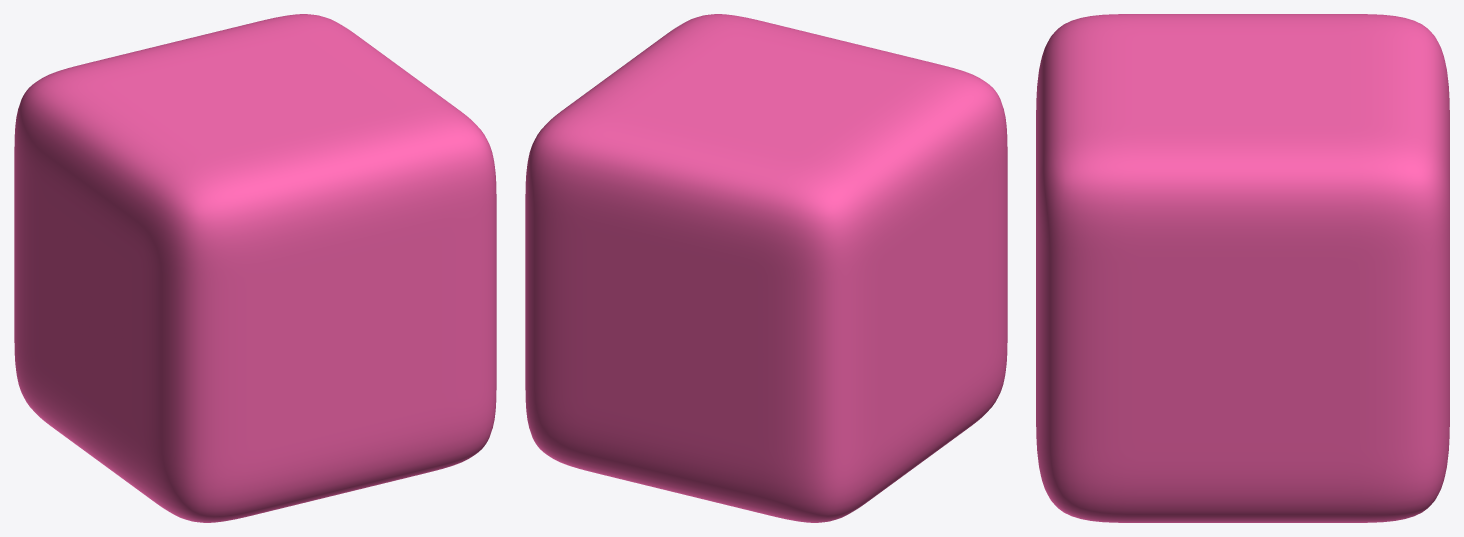
The picture shows the model from 3 angles, left to right: view 1: azimuth 30°, elevation 25°; view 2: azimuth 150°, elevation 25°; view 3: azimuth 270°, elevation 25°; orthographic projection. The views are drawn at different scales.
Visible parts, largest first — view 1: Cube; view 2: Cube; view 3: Cube.
Boxes of the visible parts, <box> form: Cube: <box>14,14,496,522</box>; Cube: <box>525,14,1007,522</box>; Cube: <box>1036,14,1449,522</box>.
Bounding box in the file's own units: 42.42 × 42.42 × 42.42.
